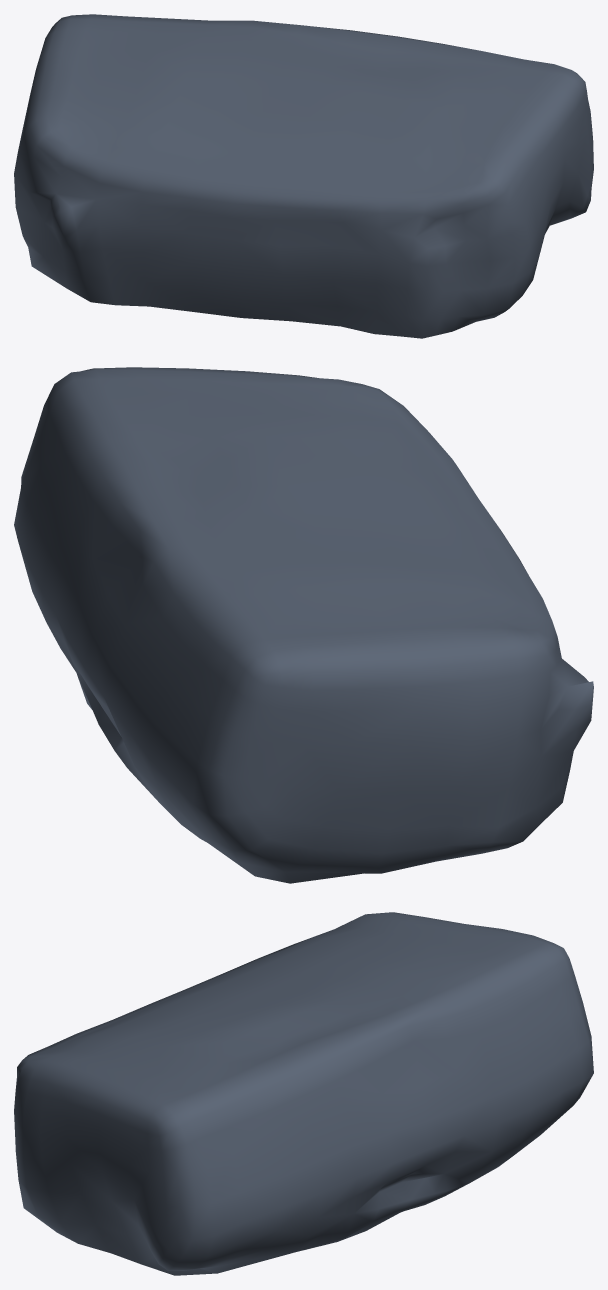
Rendered from RADIO.fbx.
3 views of the same model, one above another, from view 1: azimuth 30°, elevation 25°; view 2: azimuth 150°, elevation 25°; view 3: azimuth 270°, elevation 25° (orthographic). The views are drawn at different scales.
Parts seen in each view (by area): view 1: RADIO; view 2: RADIO; view 3: RADIO.
Boxes of the visible parts, box(x1,y1,x2,y2) form: RADIO: box(14, 14, 593, 338); RADIO: box(14, 367, 593, 883); RADIO: box(14, 912, 593, 1275).
Size of the model in its own units: 62.69 by 22.57 by 61.82.
